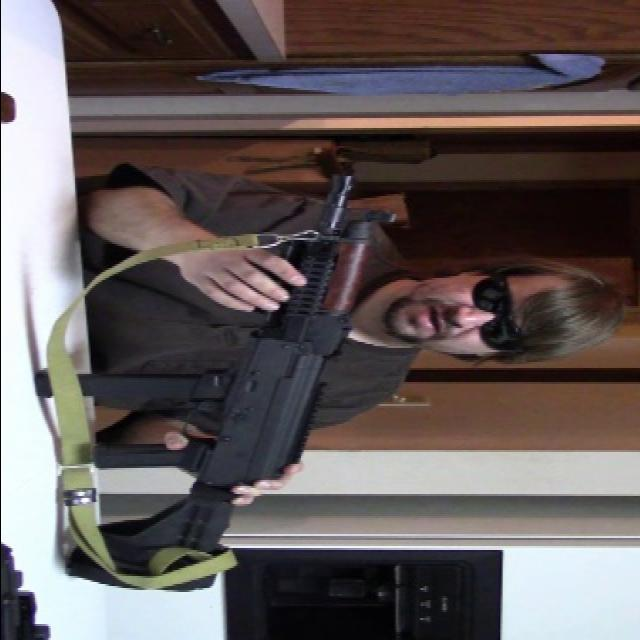rifle: (59, 151, 402, 595)
